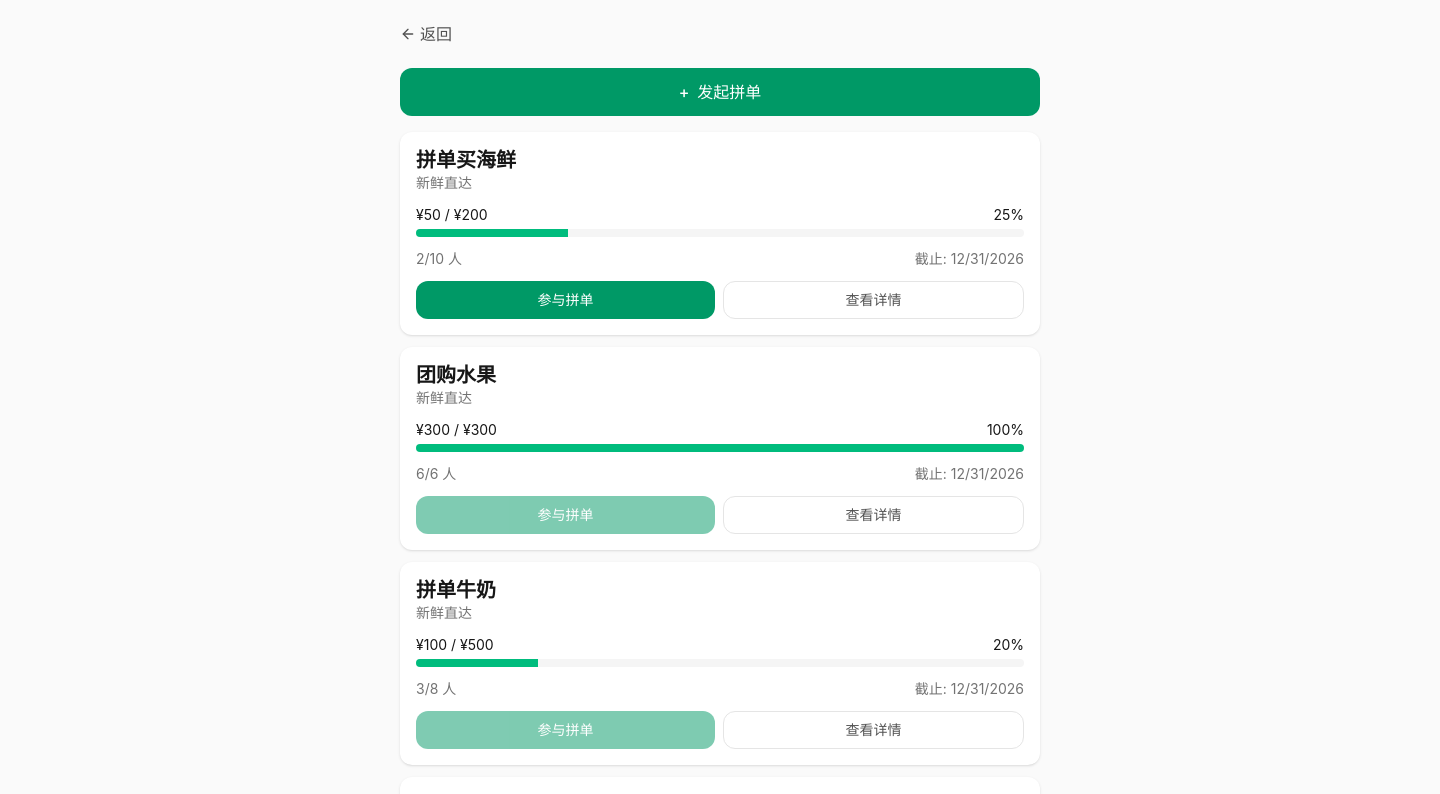
SharedKitchen/GroupOrders 拼单列表 › 点击'发起拼单'打开创建弹窗
Expected: the heading "拼单买海鲜" is shown, top-left (416, 148), bottom-right (516, 172)
Click the button "+ 发起拼单".
click(720, 92)  # box top-left (400, 68), bottom-right (1040, 116)
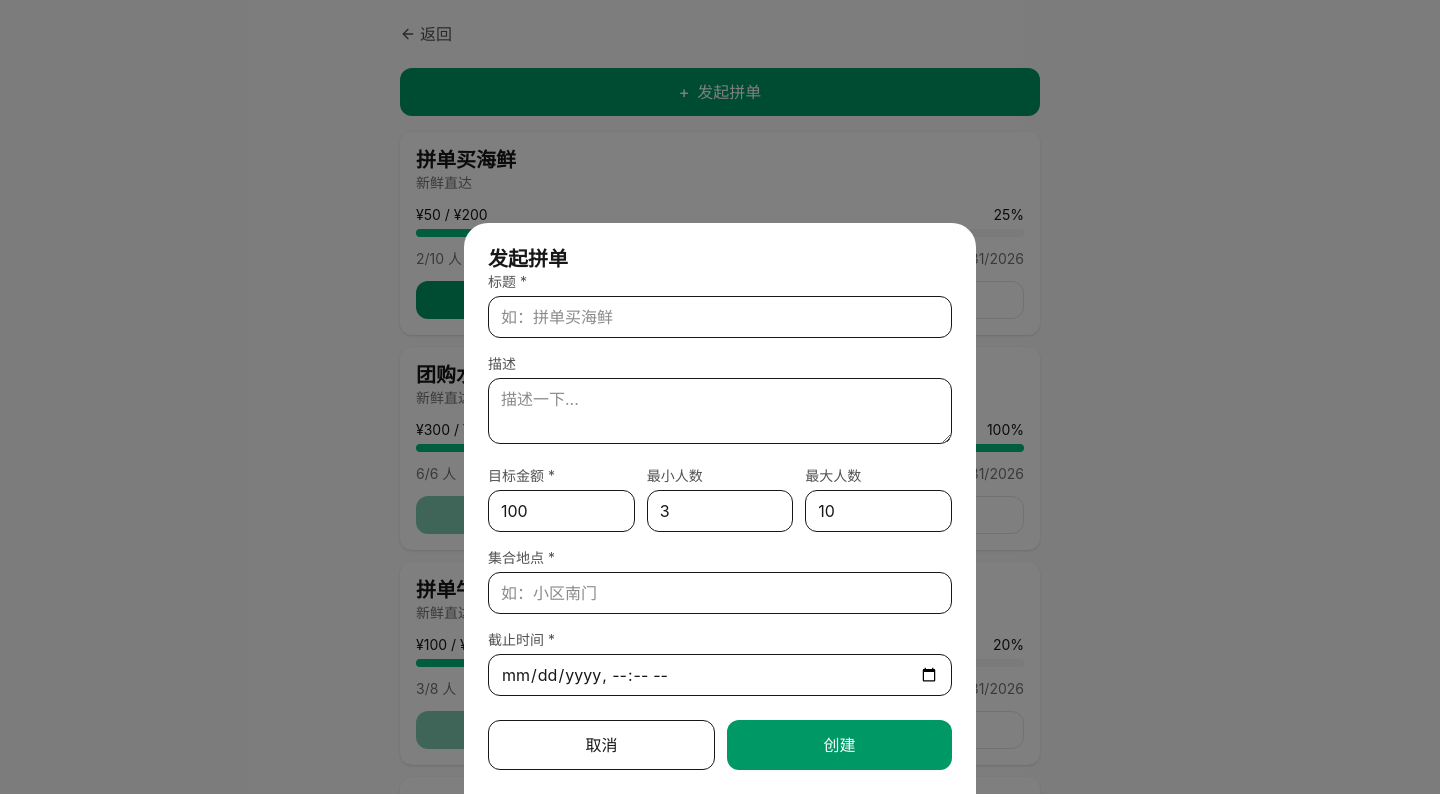
Now the heading "发起拼单" is shown, box top-left (488, 247), bottom-right (568, 271)
